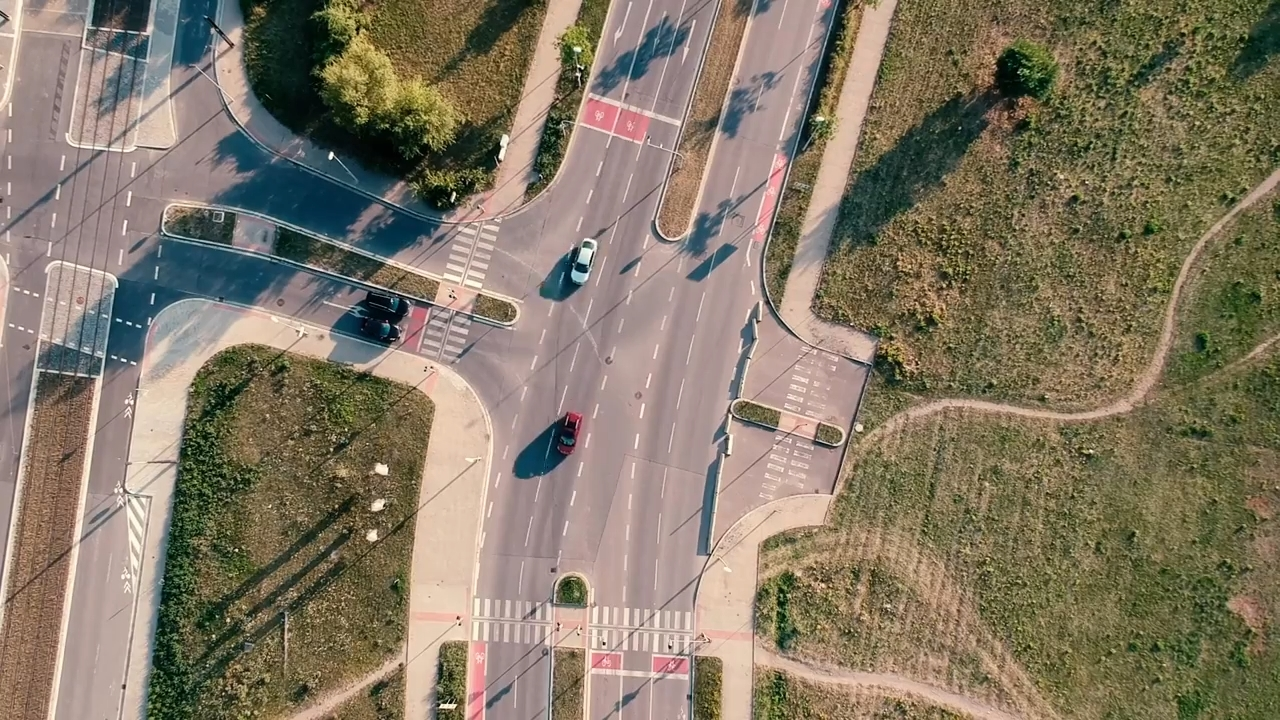car: (549, 409, 585, 456), (569, 237, 600, 284), (367, 289, 411, 318), (359, 317, 401, 343)
